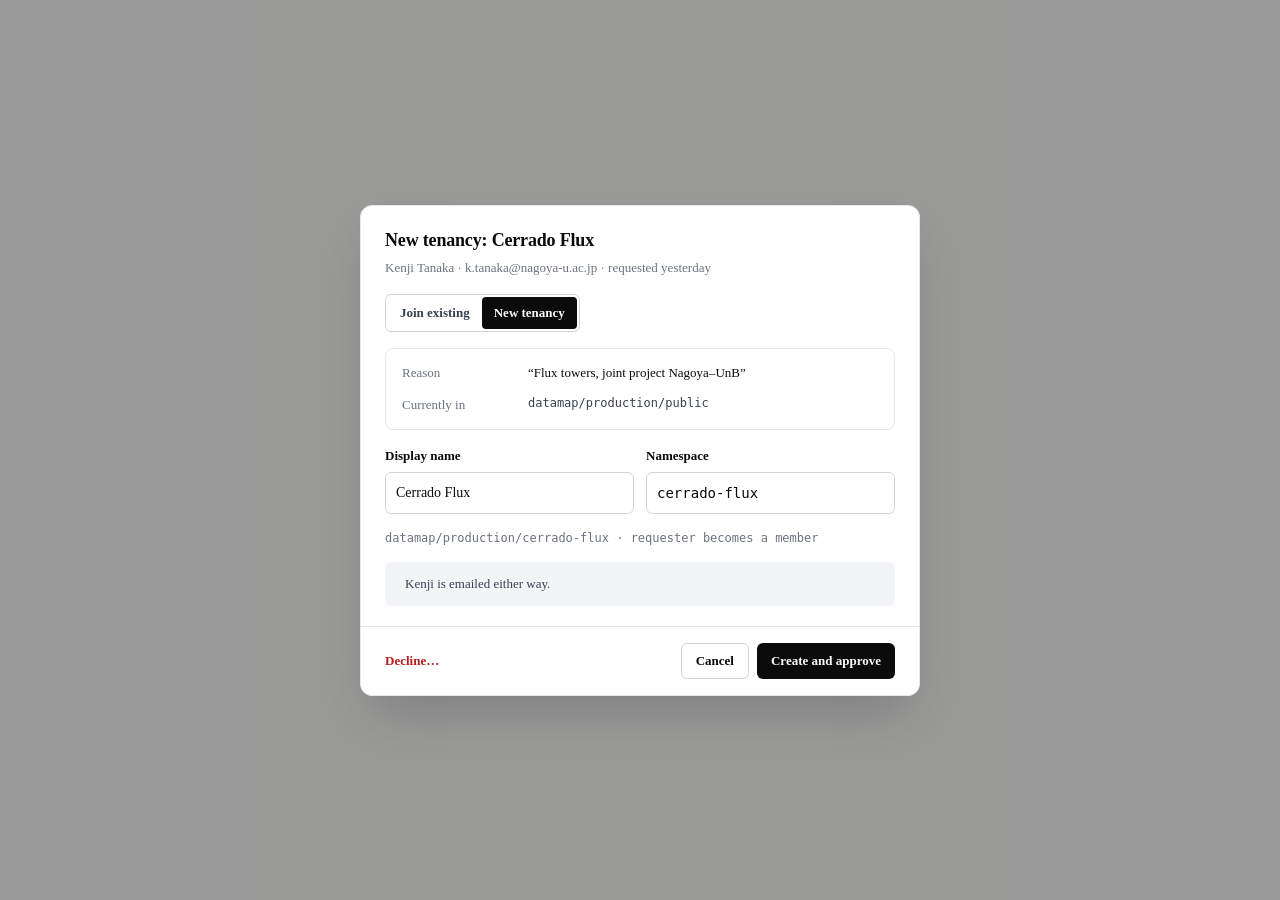
Test: ReviewRequestDialog › a refusal from the server is shown in the dialog
The width and height of the screenshot is (1280, 900).
Step 1. Click the button "Create and approve" → (826, 660), box [757,642,895,678]
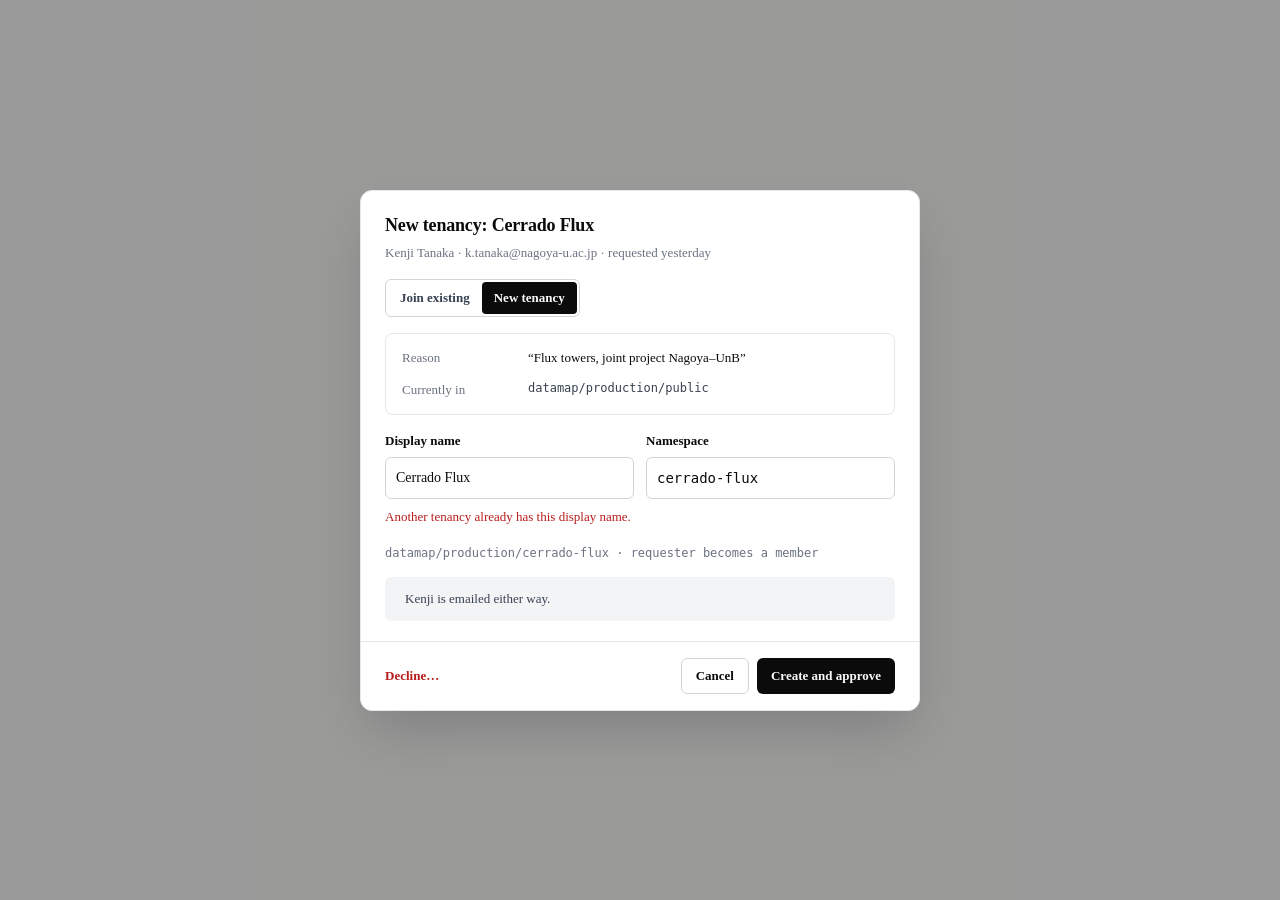
Now the text "Another tenancy already has this display name." is shown, box [385,504,634,528]
